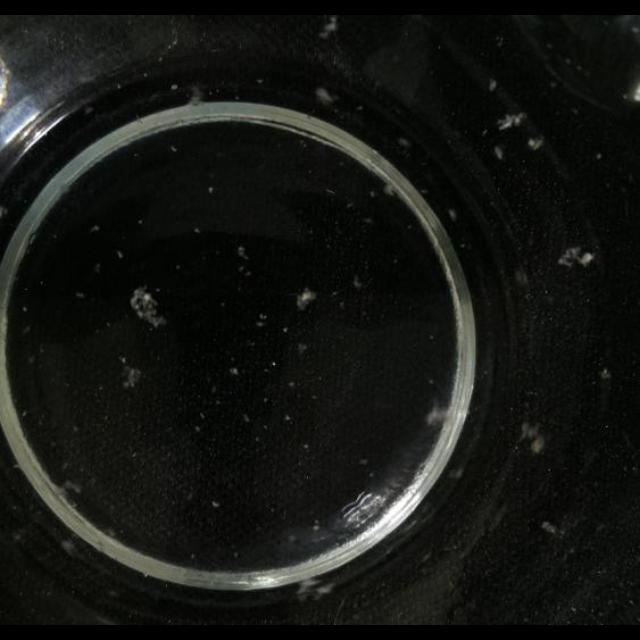Fibre: (130, 286, 166, 328), (558, 247, 592, 270), (520, 422, 544, 451), (121, 364, 143, 390), (425, 404, 451, 426), (497, 112, 525, 130), (296, 287, 316, 311), (318, 16, 338, 38), (187, 86, 205, 105), (316, 87, 334, 105), (62, 479, 82, 495), (528, 134, 544, 150), (383, 182, 397, 198), (236, 246, 248, 258), (353, 276, 363, 290)
